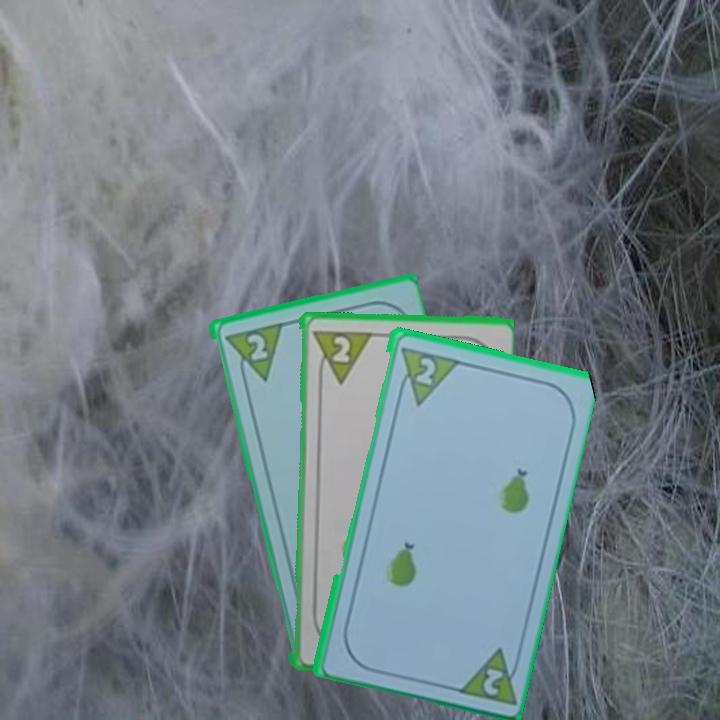2p: (308, 326, 372, 386), (409, 353, 438, 388), (478, 664, 507, 698), (242, 329, 270, 363)
